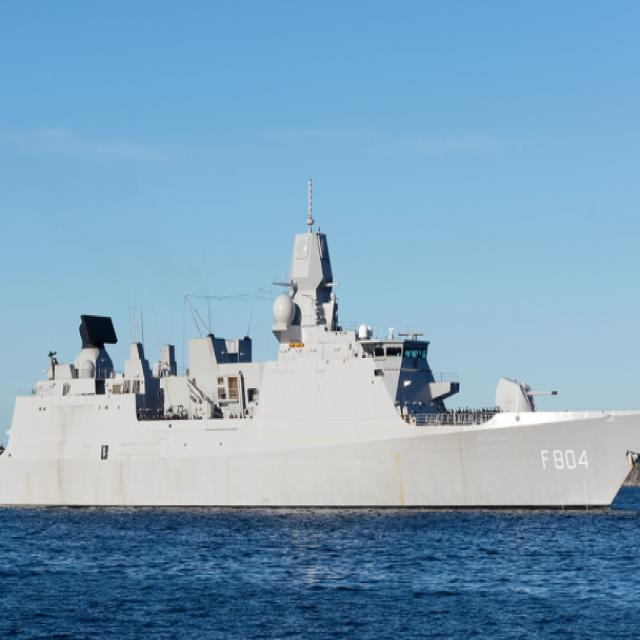Fragata: (1, 176, 640, 515)
